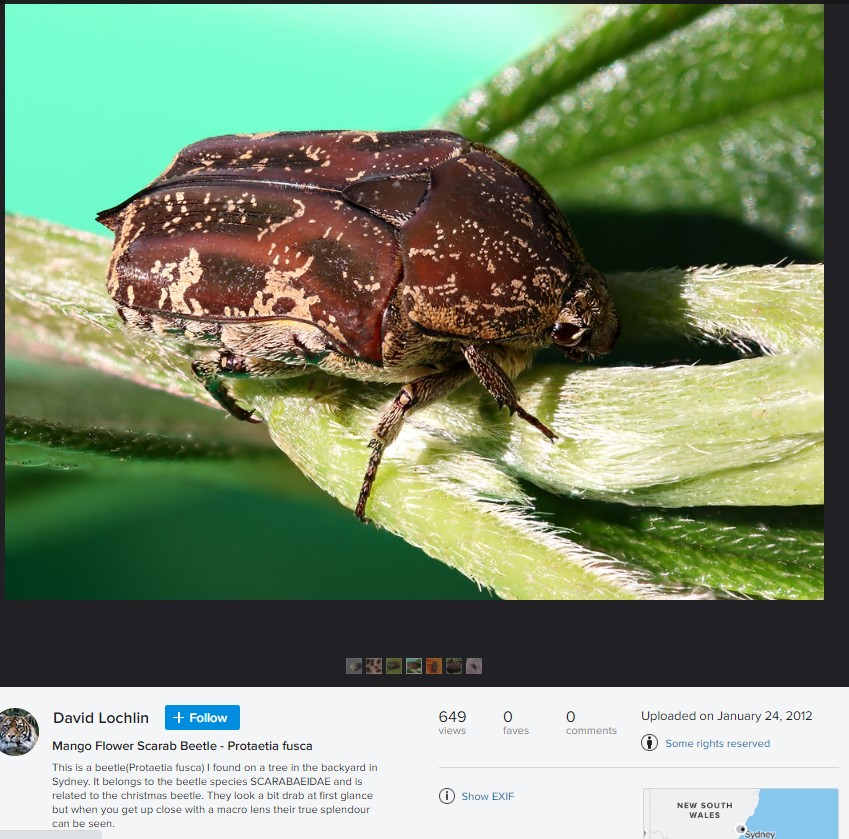Protaetia_fusca: (94, 123, 613, 525)
